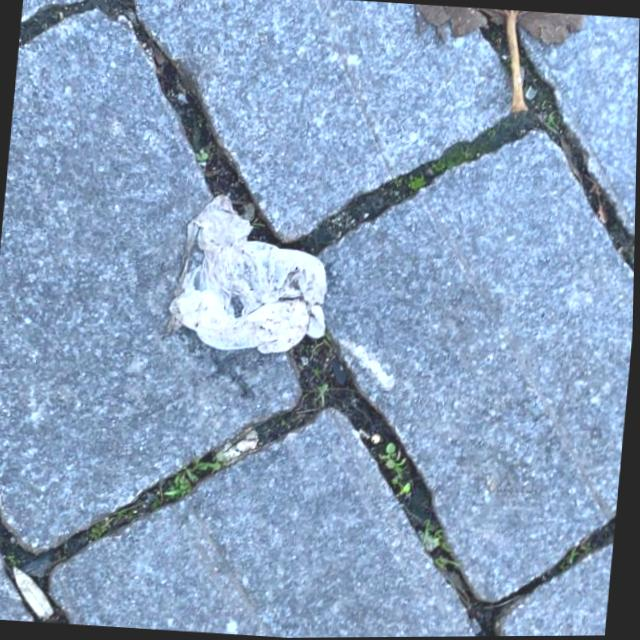Paper: (163, 188, 340, 360)
